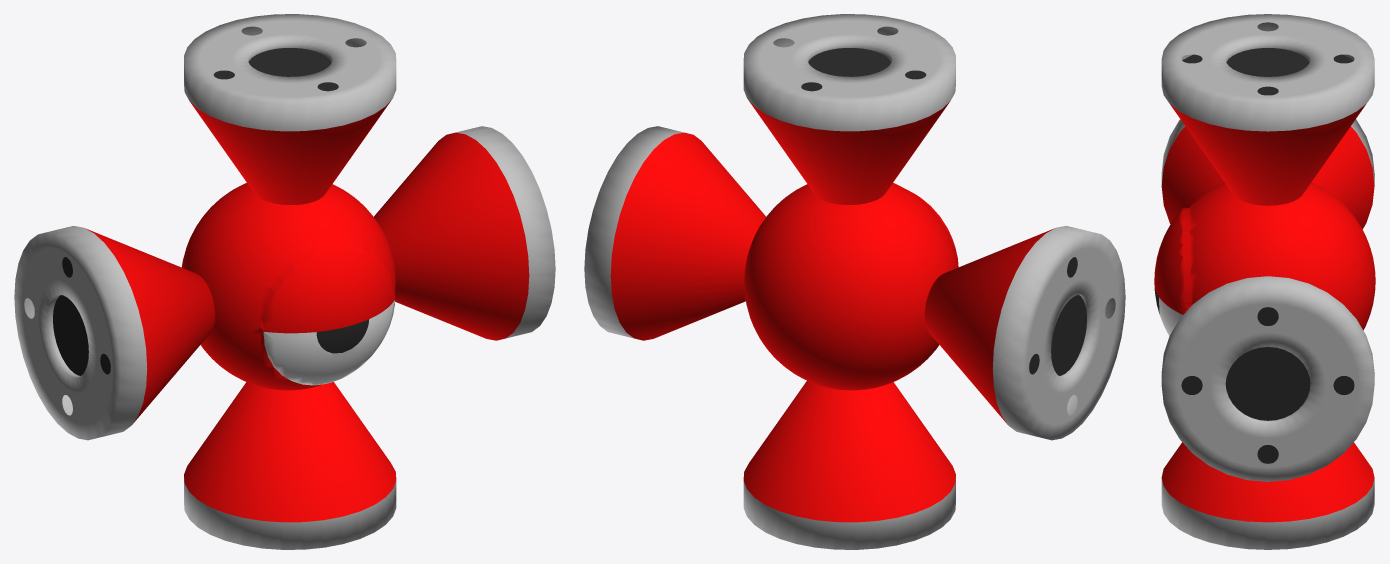
File: Suzy.fbx
3 views of the same model, side by side, from view 1: azimuth 30°, elevation 25°; view 2: azimuth 150°, elevation 25°; view 3: azimuth 270°, elevation 25° (orthographic).
Visible parts, largest first — view 1: Suzy; view 2: Suzy; view 3: Suzy.
Part boxes in pixels (box(x1,y1,x2,y2)): Suzy: box(14, 14, 555, 549); Suzy: box(584, 14, 1125, 549); Suzy: box(1154, 14, 1375, 549).
Bounding box in the file's own units: 4.62 × 4.53 × 2.04.
